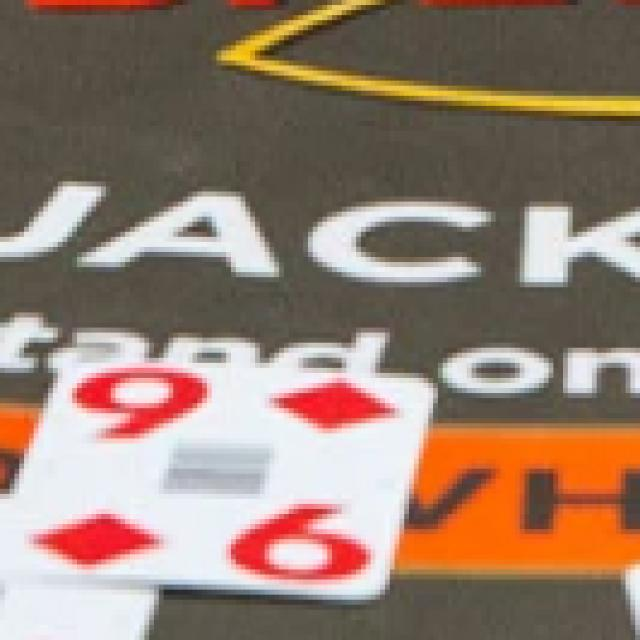Card-9: (1, 357, 433, 601)
